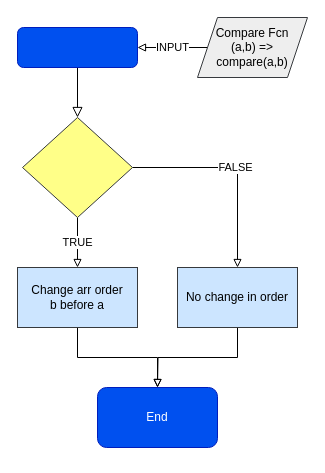
This 325x473 diagram has some shape labels left out. The shapes that lost their labels are listed below. From the top down, each one's centre as x and y in pixels, then its label:
point (77, 47): Array.sort(...)
point (77, 167): compare(a,b) > 0?
